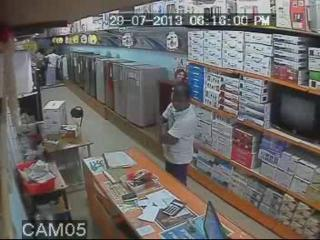Normal: (160, 82, 198, 186), (269, 88, 320, 147)
